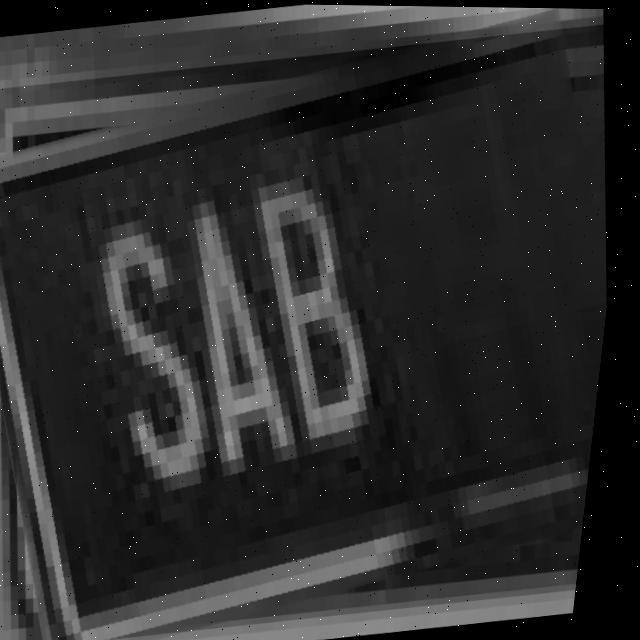LicensePlate: (0, 15, 639, 640)
